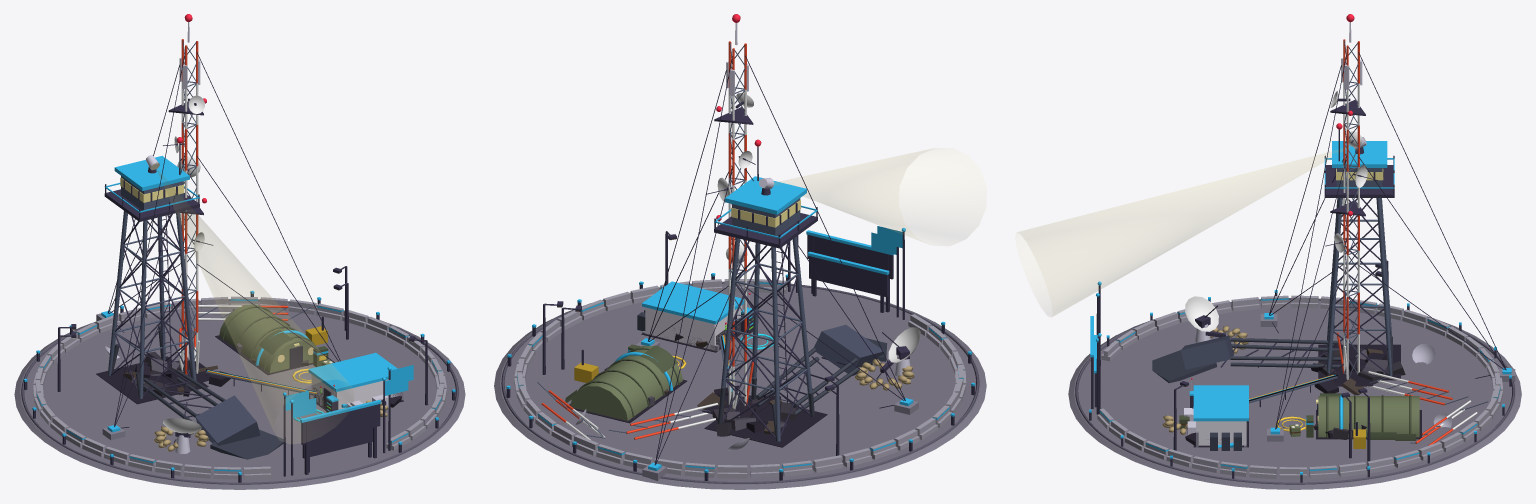
File: outposts.glb
3 views of the same model, side by side, from view 1: azimuth 30°, elevation 25°; view 2: azimuth 150°, elevation 25°; view 3: azimuth 270°, elevation 25° (orthographic). The views are drawn at different scales.
Visible parts, largest first — view 1: apron, tower_searchlight_beam, tower, mast, tower_barracks, tower_fallen_cab_wreck, shed_roof, apron_edge, tower_sign_board, tower_cab_roof, tower_lattice_scorch_wreck, tower_fallen_roof_wreck (+6 smaller); view 2: apron, tower, tower_searchlight_beam, mast, tower_barracks, shed_roof, apron_edge, shed, tower_fallen_cab_wreck, sign_board, tower_cab_roof, tower_lattice_scorch_wreck (+7 smaller); view 3: apron, tower_searchlight_beam, mast, tower, tower_barracks, shed_roof, apron_edge, tower_fallen_cab_wreck, tower_cab_roof, tower_platform, tower_fallen_roof_wreck, shed (+2 smaller).
Boxes of the visible parts, x1=… form: apron: x1=14, y1=301, x2=465, y2=489; tower_searchlight_beam: x1=156, y1=168, x2=347, y2=430; tower: x1=107, y1=211, x2=391, y2=476; mast: x1=168, y1=39, x2=204, y2=375; tower_barracks: x1=219, y1=304, x2=316, y2=373; tower_fallen_cab_wreck: x1=195, y1=395, x2=260, y2=445; shed_roof: x1=308, y1=352, x2=397, y2=391; apron_edge: x1=21, y1=299, x2=458, y2=484; tower_sign_board: x1=301, y1=404, x2=380, y2=444; tower_cab_roof: x1=114, y1=155, x2=189, y2=191; tower_lattice_scorch_wreck: x1=96, y1=356, x2=208, y2=404; tower_fallen_roof_wreck: x1=210, y1=429, x2=283, y2=459; apron: x1=494, y1=283, x2=986, y2=489; tower: x1=577, y1=228, x2=914, y2=441; tower_searchlight_beam: x1=774, y1=148, x2=934, y2=243; mast: x1=714, y1=41, x2=753, y2=408; tower_barracks: x1=570, y1=345, x2=682, y2=420; shed_roof: x1=642, y1=281, x2=744, y2=324; apron_edge: x1=501, y1=281, x2=979, y2=483; shed: x1=645, y1=305, x2=742, y2=350; tower_fallen_cab_wreck: x1=813, y1=324, x2=884, y2=375; sign_board: x1=809, y1=256, x2=888, y2=297; tower_cab_roof: x1=725, y1=176, x2=806, y2=214; tower_lattice_scorch_wreck: x1=704, y1=395, x2=827, y2=447; apron: x1=1068, y1=300, x2=1521, y2=489; tower_searchlight_beam: x1=1017, y1=146, x2=1350, y2=316; mast: x1=1330, y1=39, x2=1367, y2=379; tower: x1=1091, y1=198, x2=1411, y2=437; tower_barracks: x1=1318, y1=396, x2=1419, y2=437; shed_roof: x1=1193, y1=385, x2=1248, y2=421; apron_edge: x1=1075, y1=298, x2=1514, y2=484; tower_fallen_cab_wreck: x1=1181, y1=335, x2=1233, y2=369; tower_cab_roof: x1=1332, y1=141, x2=1387, y2=167; tower_platform: x1=1324, y1=165, x2=1394, y2=197; tower_fallen_roof_wreck: x1=1152, y1=350, x2=1217, y2=383; shed: x1=1196, y1=421, x2=1246, y2=445.
Size of the model in its own units: 49.2 by 47.45 by 54.98.
